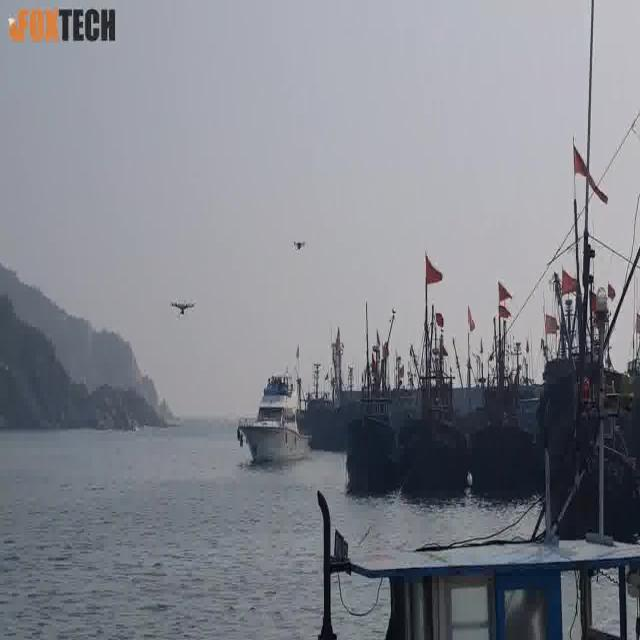drone: (168, 295, 198, 321), (291, 236, 308, 255)
